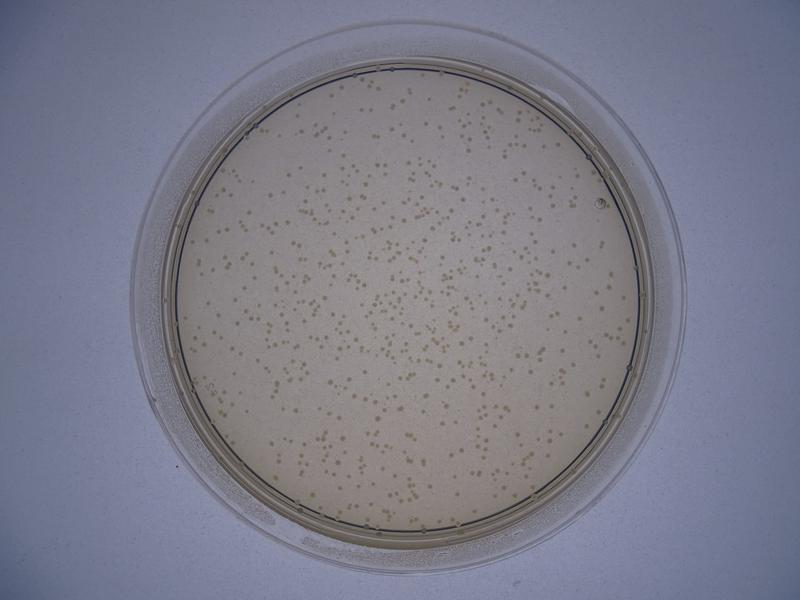colony: (323, 146, 337, 157), (557, 345, 568, 357), (504, 262, 515, 274), (419, 389, 432, 399), (597, 302, 606, 316), (371, 413, 382, 424), (548, 244, 559, 255), (207, 265, 219, 275), (349, 389, 359, 401), (419, 119, 432, 128), (569, 239, 579, 250), (548, 201, 558, 212), (212, 309, 223, 319), (591, 286, 601, 297), (332, 457, 343, 467), (377, 462, 388, 472), (546, 435, 556, 446), (479, 389, 489, 400), (574, 262, 584, 273), (253, 355, 263, 366), (265, 438, 276, 448), (526, 228, 538, 237), (230, 294, 240, 304), (512, 428, 522, 438), (344, 372, 354, 382), (438, 418, 448, 428), (387, 314, 397, 324), (437, 252, 447, 262), (295, 163, 306, 172), (339, 151, 350, 160), (344, 193, 355, 202), (463, 145, 472, 156), (229, 367, 238, 378), (559, 282, 568, 293), (574, 313, 585, 322), (319, 292, 330, 301), (560, 326, 569, 337), (546, 401, 555, 412), (447, 449, 456, 460), (369, 478, 378, 489), (459, 195, 469, 204), (420, 235, 429, 245), (386, 212, 396, 221), (239, 282, 249, 291), (327, 309, 337, 318), (466, 334, 475, 344), (532, 401, 541, 411), (581, 389, 591, 398), (282, 217, 292, 226), (232, 318, 240, 329), (284, 170, 293, 179), (399, 130, 408, 139), (381, 171, 390, 180), (203, 298, 212, 307), (419, 407, 428, 416), (336, 483, 345, 492), (390, 471, 399, 480), (525, 367, 534, 376), (314, 403, 323, 412), (399, 215, 407, 225), (405, 157, 413, 167), (457, 339, 465, 349), (326, 375, 334, 385), (425, 482, 435, 490), (450, 471, 458, 481), (241, 407, 251, 415), (328, 271, 338, 279), (228, 343, 236, 353), (425, 95, 434, 103), (511, 176, 520, 184), (379, 199, 388, 207), (266, 191, 275, 199), (525, 204, 533, 213), (251, 273, 259, 282), (291, 406, 299, 415), (361, 367, 369, 376), (569, 361, 577, 370), (453, 490, 461, 499), (320, 171, 328, 179), (358, 105, 366, 113), (341, 128, 349, 136), (267, 248, 275, 256), (334, 412, 342, 420), (388, 124, 395, 133), (330, 229, 337, 238), (520, 169, 528, 176), (371, 204, 378, 212), (245, 209, 253, 216), (408, 137, 416, 144), (452, 418, 459, 426)
